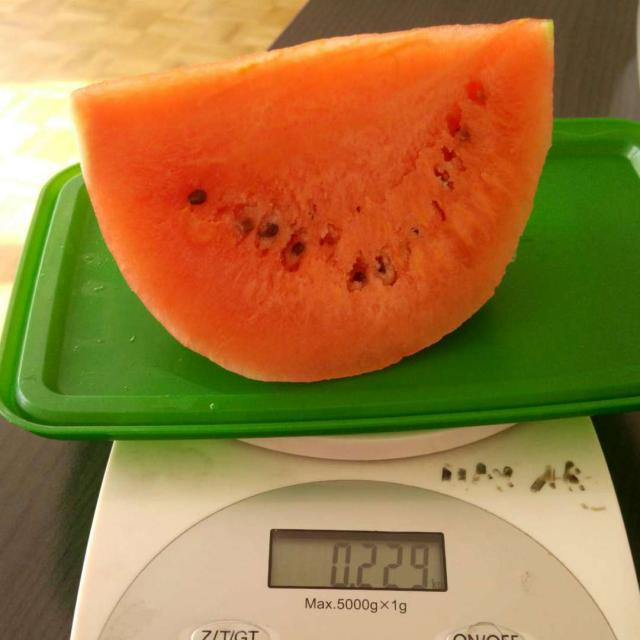watermelon-fresh: (79, 29, 549, 378)
